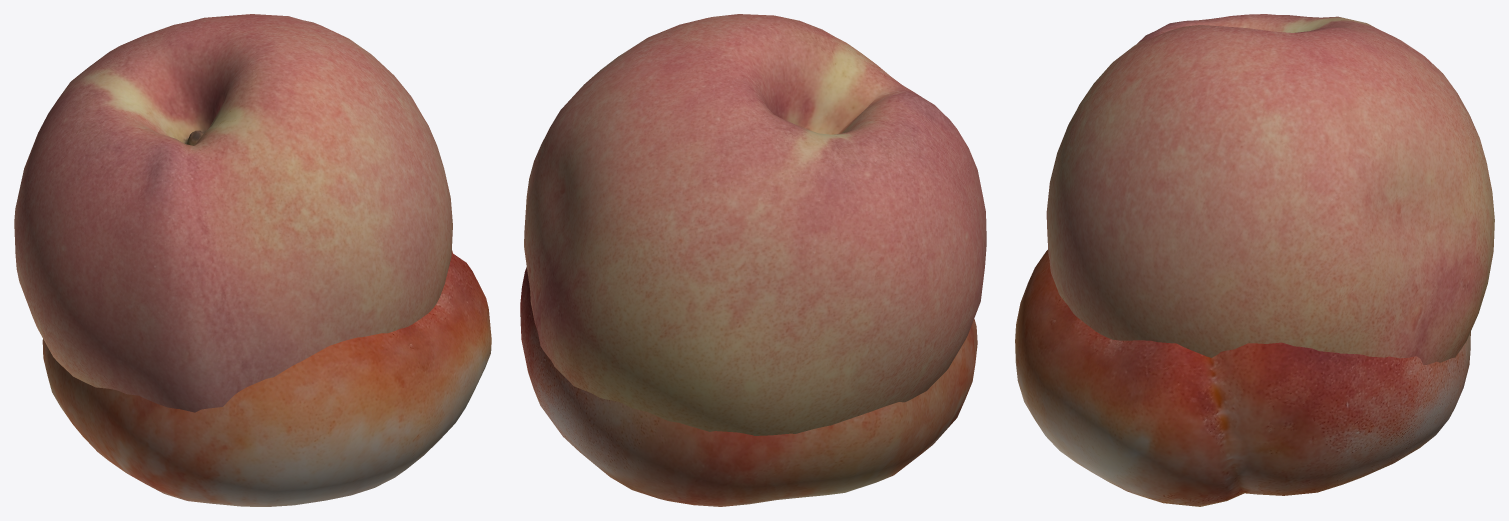
File: kiri_peche.gltf
The picture shows the model from 3 angles, left to right: view 1: azimuth 30°, elevation 25°; view 2: azimuth 150°, elevation 25°; view 3: azimuth 270°, elevation 25°; orthographic projection. The views are drawn at different scales.
Parts seen in each view (by area): view 1: A28_Peach, A51_Peach; view 2: A28_Peach, A51_Peach; view 3: A28_Peach, A51_Peach.
Part boxes in pixels (x1,y1,x2,y2): A28_Peach: [14, 14, 452, 412]; A51_Peach: [42, 250, 491, 506]; A28_Peach: [524, 14, 986, 435]; A51_Peach: [520, 267, 977, 506]; A28_Peach: [1046, 14, 1494, 364]; A51_Peach: [1015, 249, 1470, 506].
Size of the model in its own units: 0.0831 by 0.0812 by 0.0823.
Materials: 2 (2 with a texture image).
